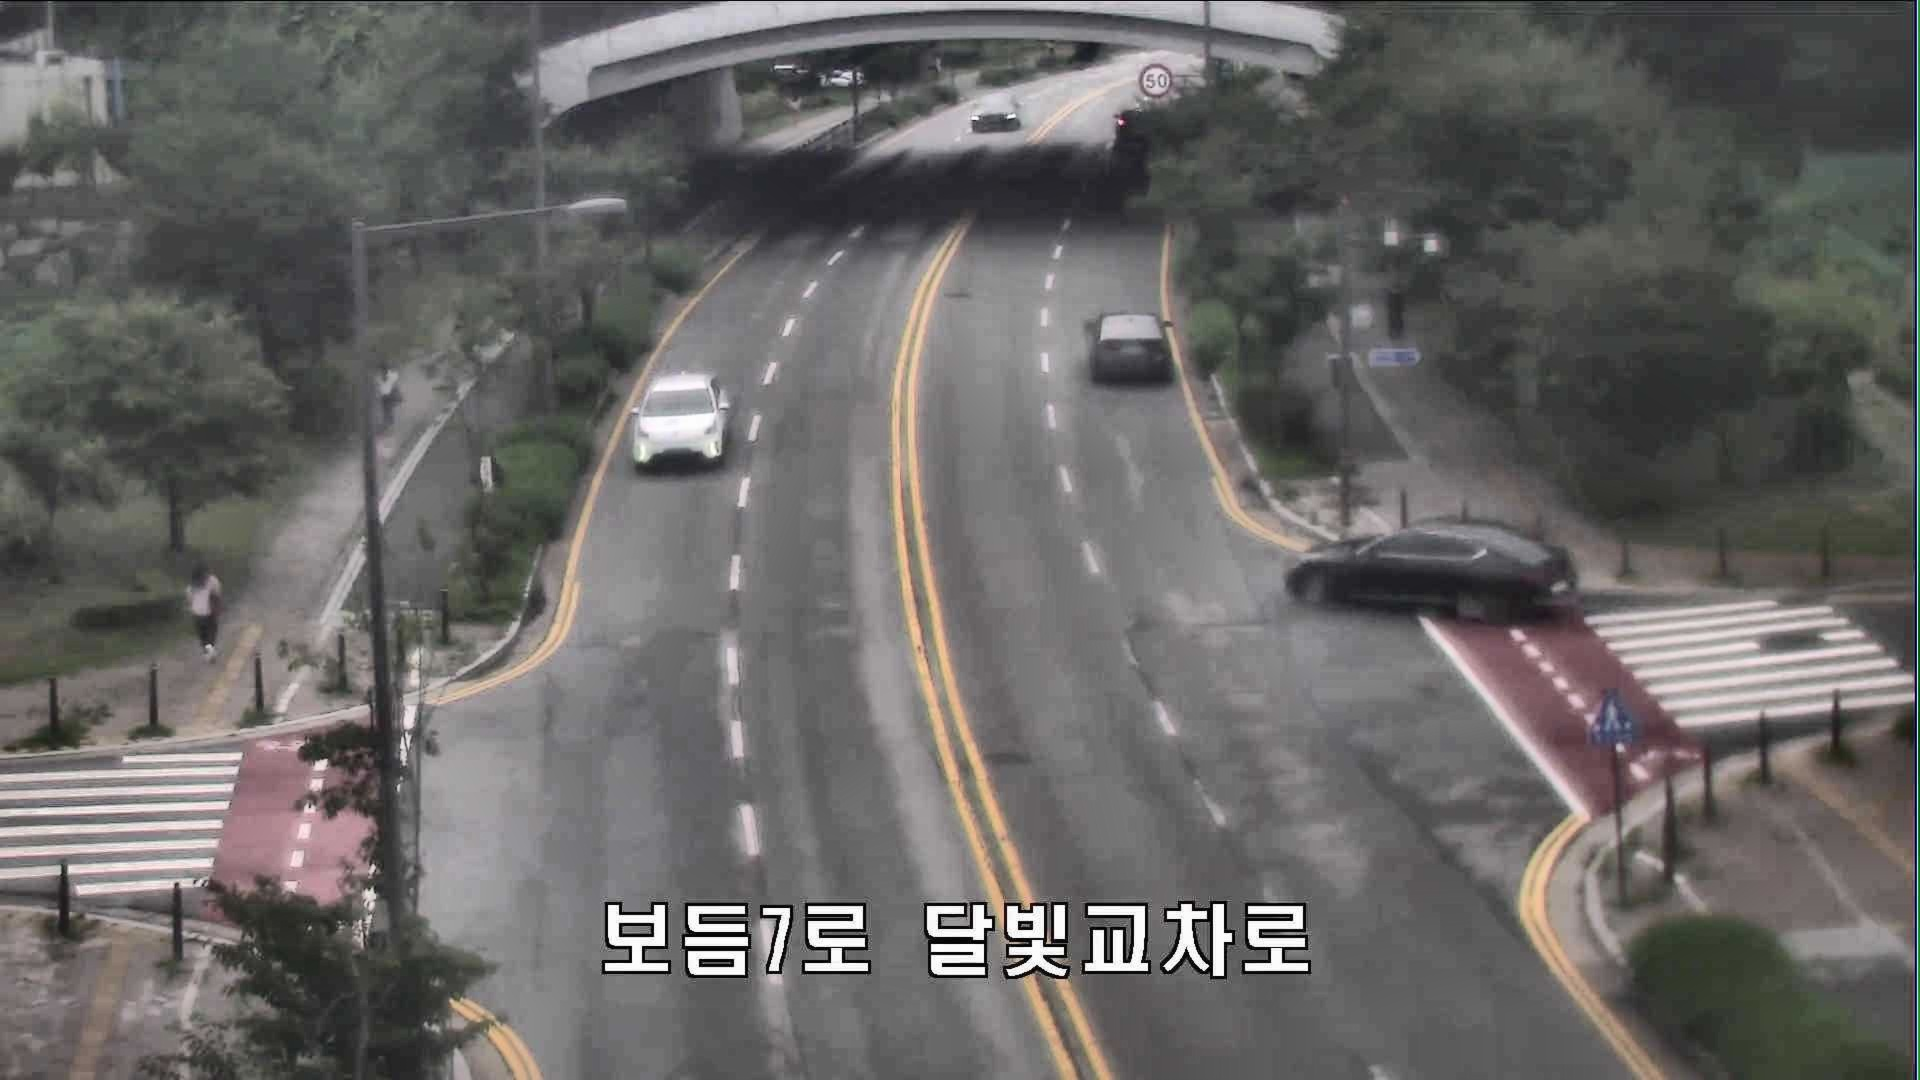sidewalk: (182, 555, 225, 661), (369, 356, 406, 435), (1385, 291, 1416, 344)
